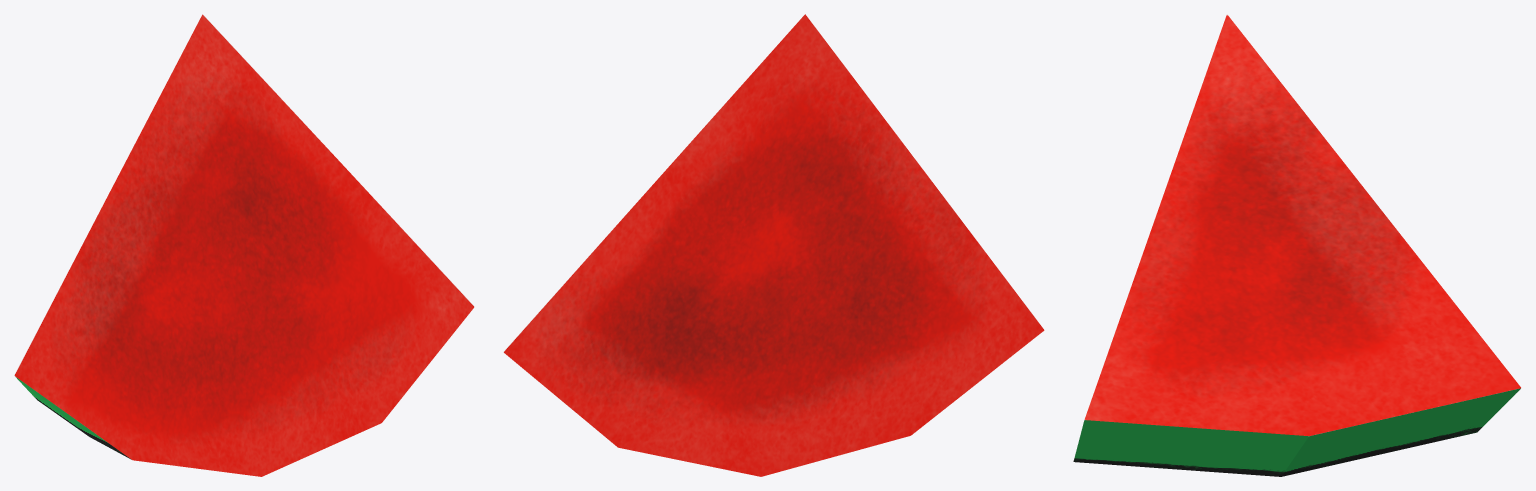
The model's file is suicanBullet.obj.
3 views of the same model, side by side, from view 1: azimuth 30°, elevation 25°; view 2: azimuth 150°, elevation 25°; view 3: azimuth 270°, elevation 25° (orthographic). The views are drawn at different scales.
Parts seen in each view (by area): view 1: 球; view 2: 球; view 3: 球.
Part boxes in pixels (box(x1,y1,x2,y2)): 球: box(14, 14, 474, 476); 球: box(503, 14, 1044, 476); 球: box(1073, 14, 1520, 476).
Bounding box in the file's own units: 0.2352 × 0.227 × 0.2099.
Materials: 1 (1 with a texture image).
